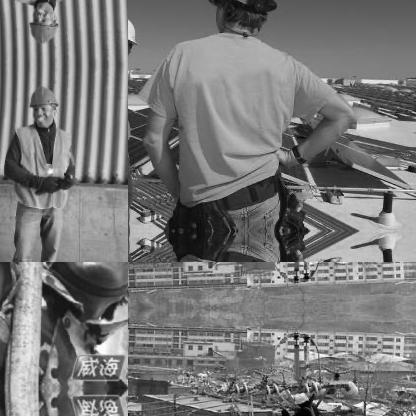Helmet: (200, 0, 277, 40), (24, 0, 61, 47), (24, 80, 60, 127), (128, 5, 142, 70), (292, 389, 310, 405)
